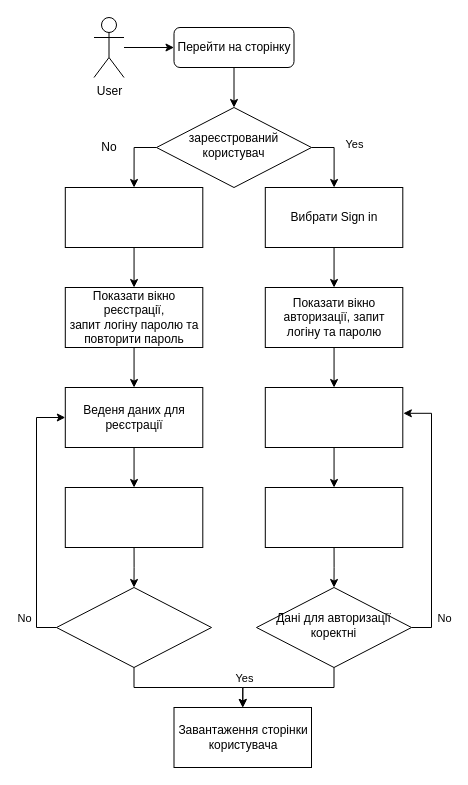
Image size: 468x785. Some labels were removed from this diagram. The shapes that lost their labels are listed below. From the top down, each one's centre as x and y in pixels, then its label:
At pixel 133 217: "Вибрати Sign up".
At pixel 333 417: "Ведення даних для авторизації".
At pixel 133 517: "Нажати кнопку Create acount".
At pixel 333 517: "Нажати кнопку Sign in".
At pixel 134 627: "Дані для реєстрації коректні".
